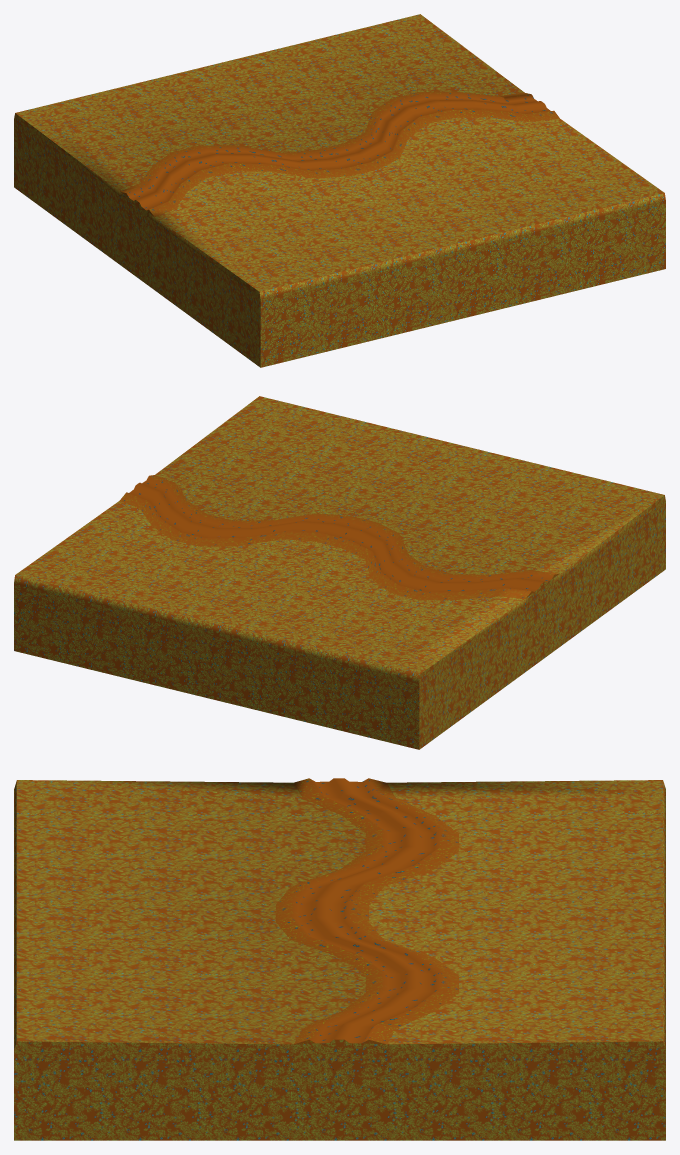
File: Road_grooves_CURVY .fbx
3 views of the same model, one above another, from view 1: azimuth 30°, elevation 25°; view 2: azimuth 150°, elevation 25°; view 3: azimuth 270°, elevation 25° (orthographic). The views are drawn at different scales.
Visible parts, largest first — view 1: Mesh_Path_Straight10; view 2: Mesh_Path_Straight10; view 3: Mesh_Path_Straight10.
Part boxes in pixels (left/top/right/bottom): Mesh_Path_Straight10: left=14, top=14, right=665, bottom=367; Mesh_Path_Straight10: left=14, top=396, right=665, bottom=749; Mesh_Path_Straight10: left=14, top=778, right=665, bottom=1140.
Bounding box in the file's own units: 5588 × 1009 × 5890.
